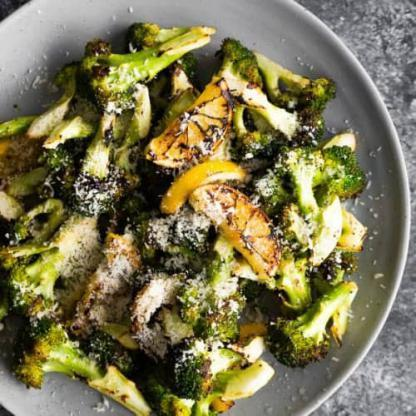broccoli: (0, 21, 368, 416)
